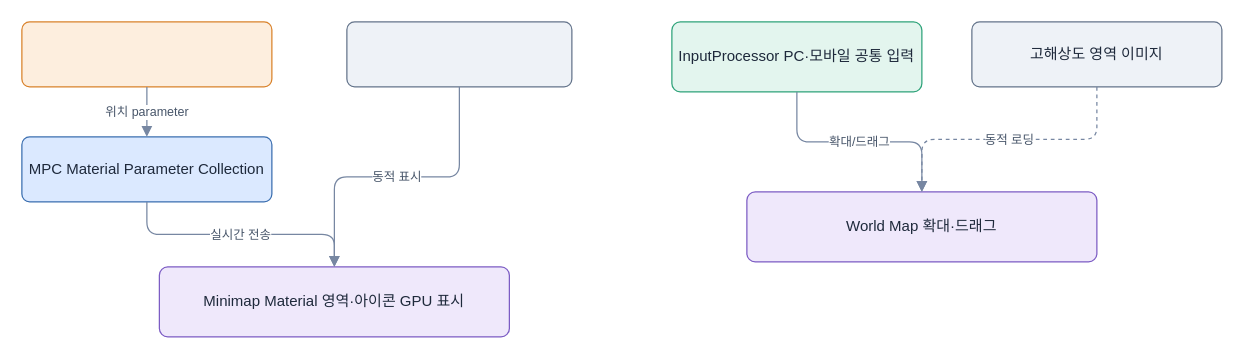
Some shapes in this 1244 by 359 pixel diagram are drawn without their labels. The shapes that lost their labels are listed below. From the top down, each one's centre as x and y in pixels, then its label:
At pixel 146 54: "PC Position 실시간 위치".
At pixel 459 54: "Quest Data".
